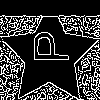P: (25, 30, 69, 64)
